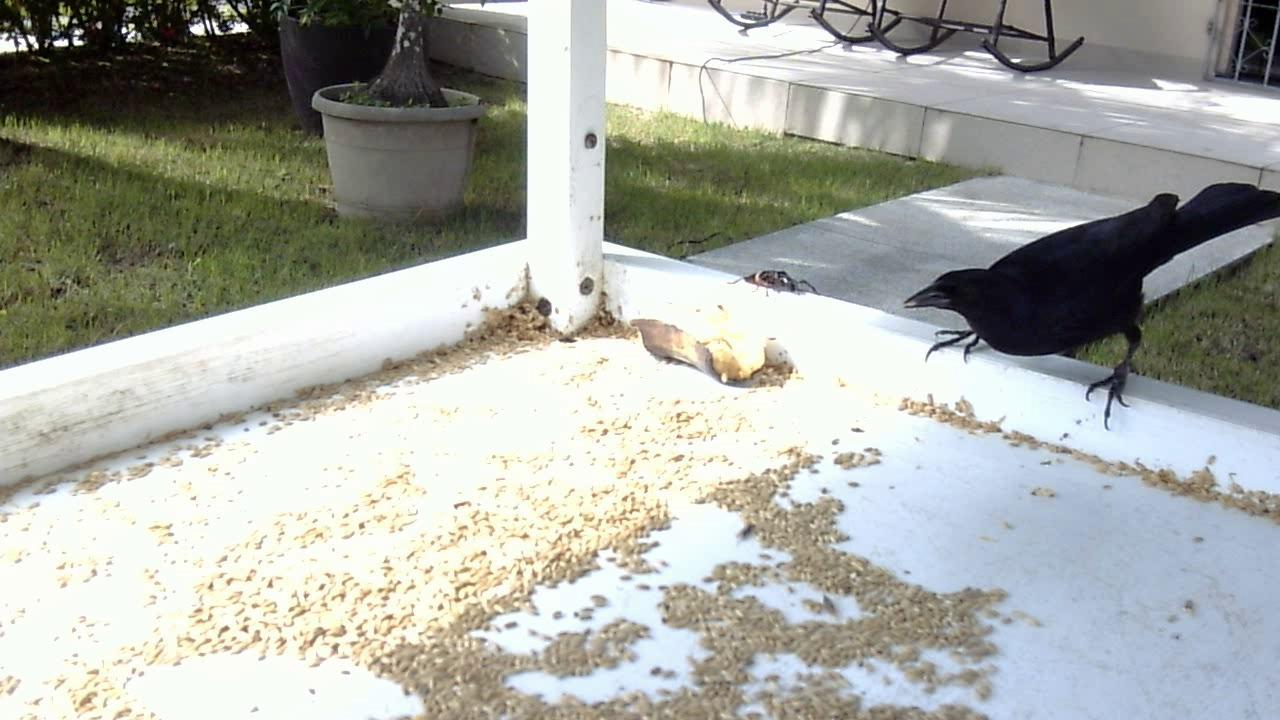chupim: (890, 168, 1273, 442)
